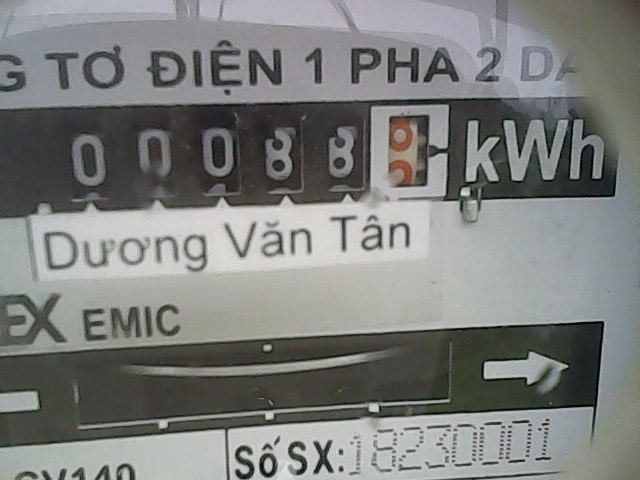phy_plate: (61, 99, 451, 206)
